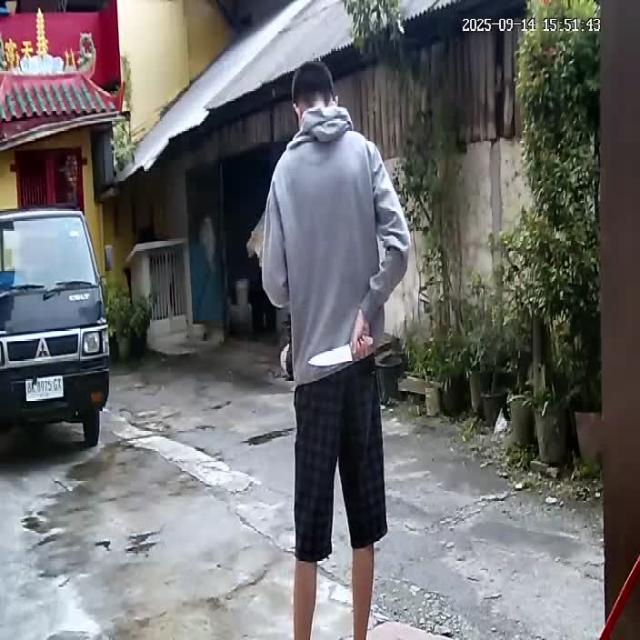senjata_tajam: (306, 343, 355, 367)
